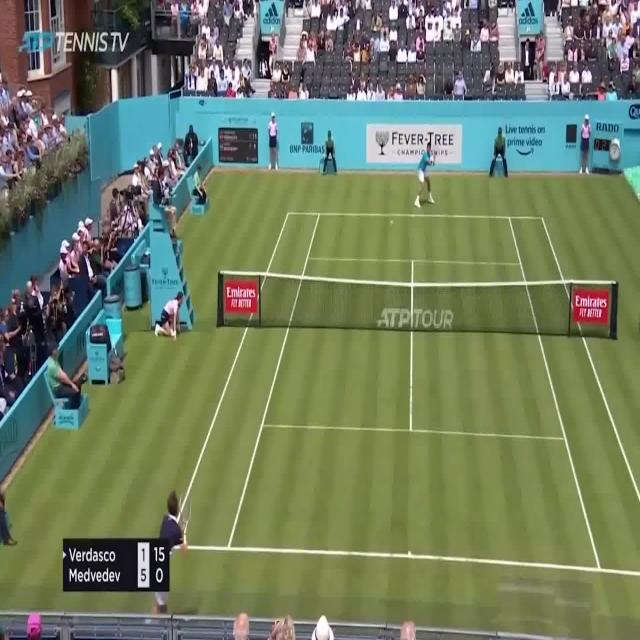bottom-dead-zone: (229, 425, 601, 570)
court: (167, 213, 640, 575)
left-doubles-alley: (167, 214, 319, 549)
left-service-box: (261, 258, 413, 430)
net: (215, 269, 619, 341)
right-doubles-alley: (509, 218, 640, 574)
right-service-box: (410, 261, 568, 442)
top-dead-zone: (307, 215, 521, 263)
